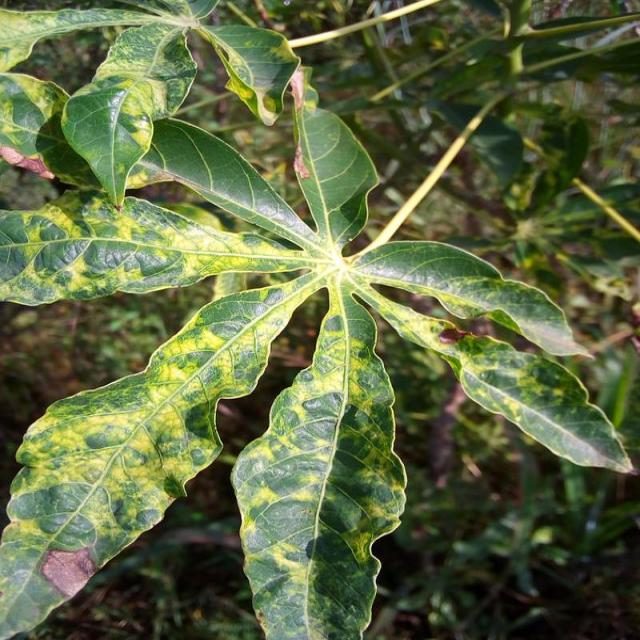cassava leaf: (1, 2, 634, 637), (0, 269, 324, 638), (230, 286, 407, 638)
